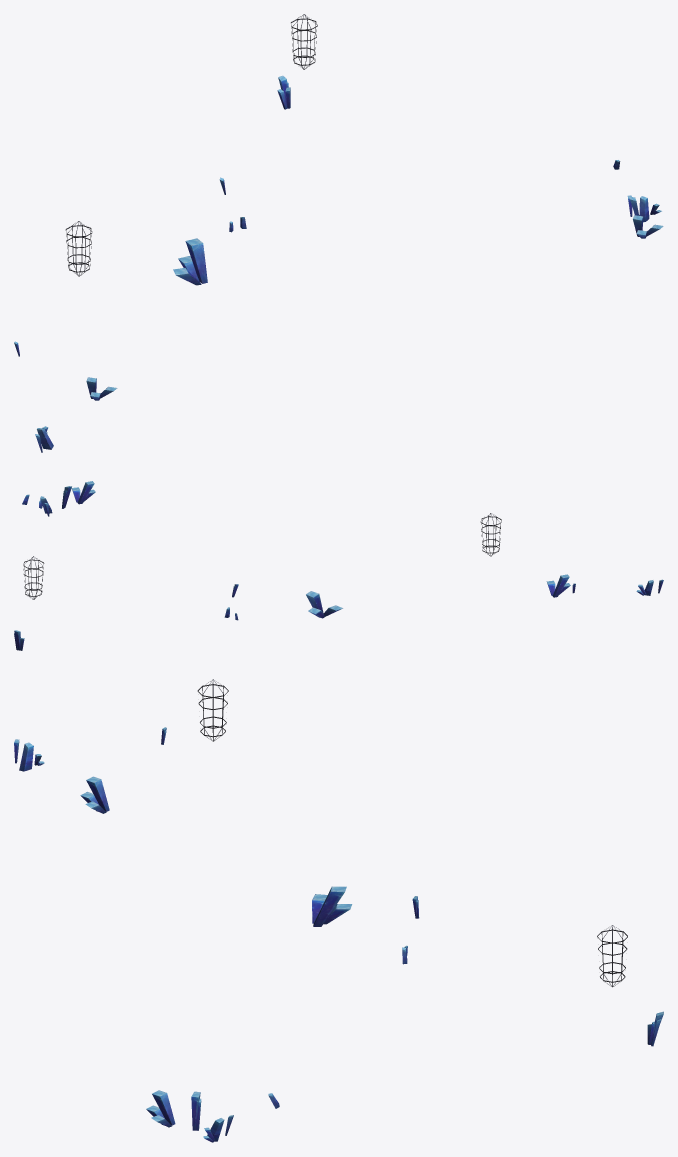
File: Area14_25_y.FBX
The picture shows the model from 3 angles, top to bottom: view 1: azimuth 30°, elevation 25°; view 2: azimuth 150°, elevation 25°; view 3: azimuth 270°, elevation 25°; orthographic projection. The views are drawn at different scales.
Parts seen in each view (by area): view 1: Area14_25_y; view 2: Area14_25_y; view 3: Area14_25_y.
Part boxes in pixels (<box>): Area14_25_y: <box>14,14,663,452</box>; Area14_25_y: <box>14,481,663,650</box>; Area14_25_y: <box>14,679,663,1142</box>.
Bounding box in the file's own units: 3203 × 592 × 2272.
